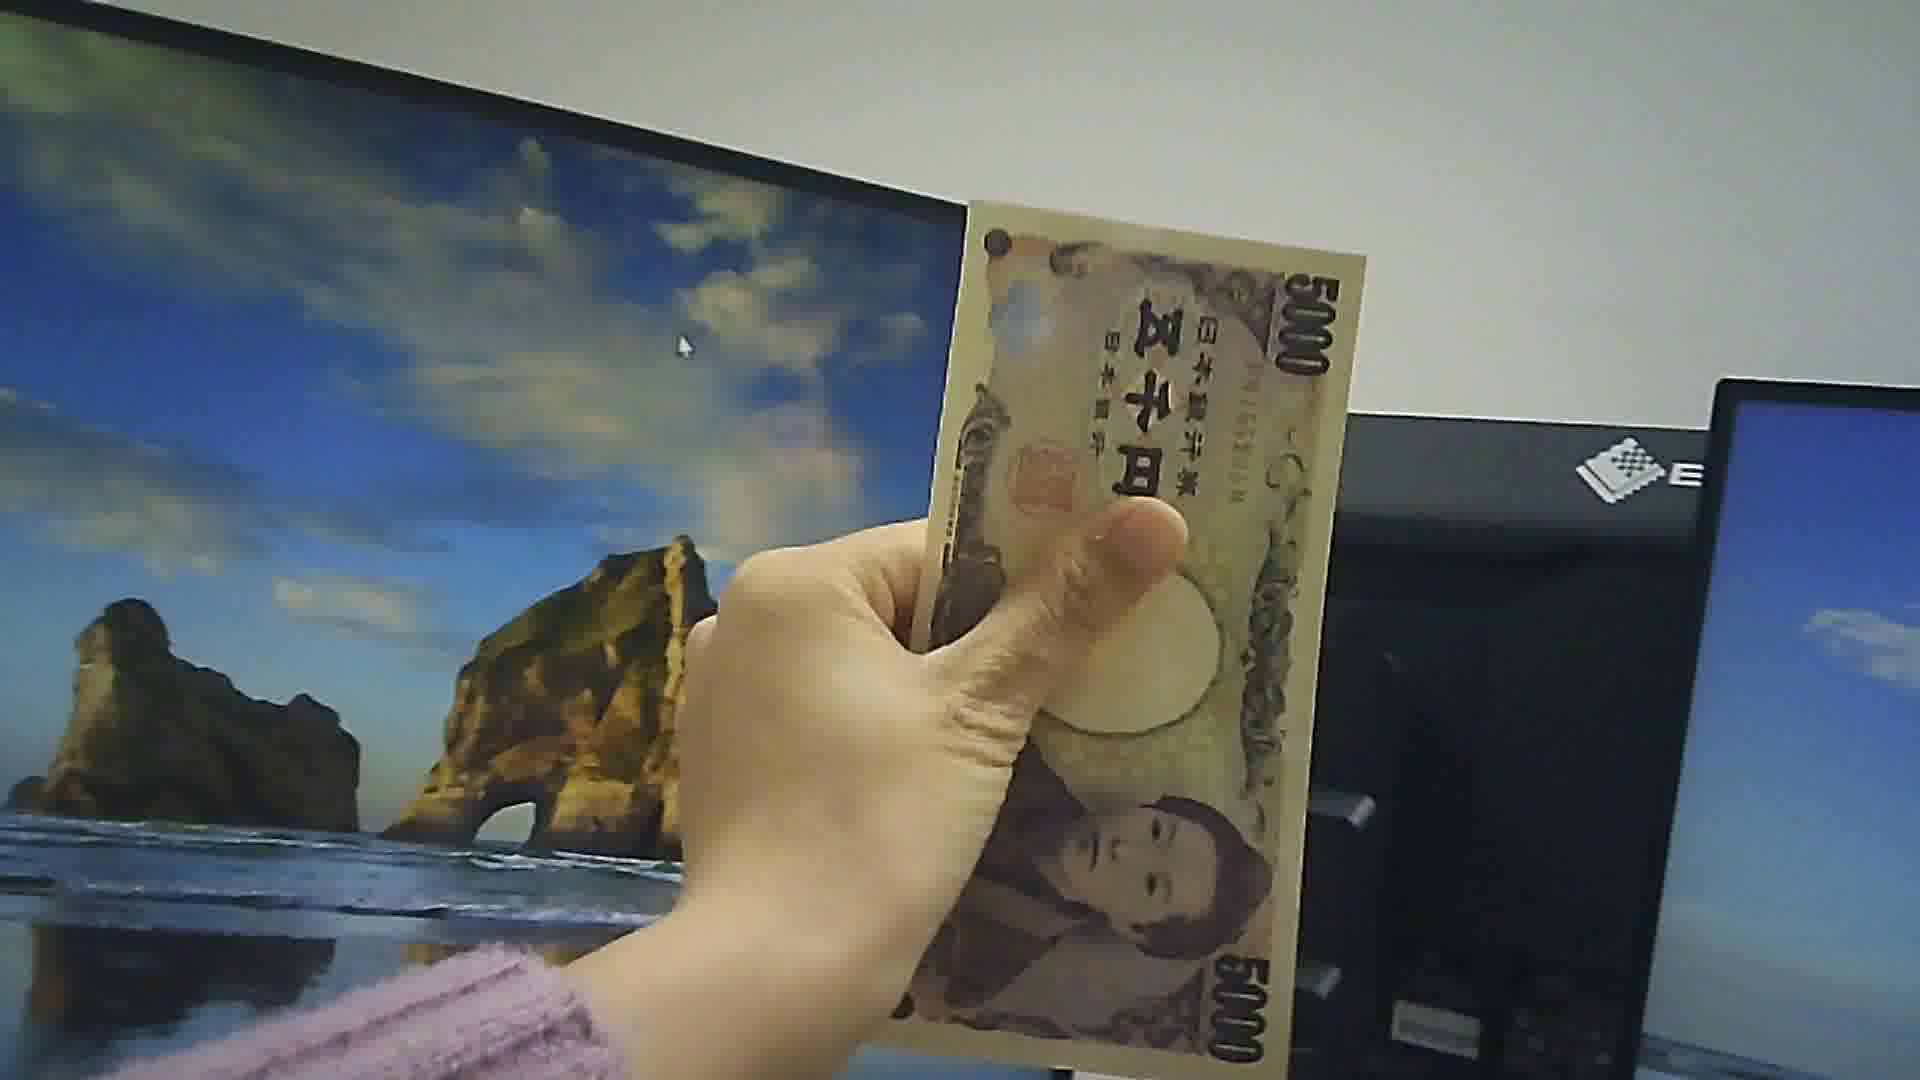5,000 Yen: (876, 179, 1364, 1079)
